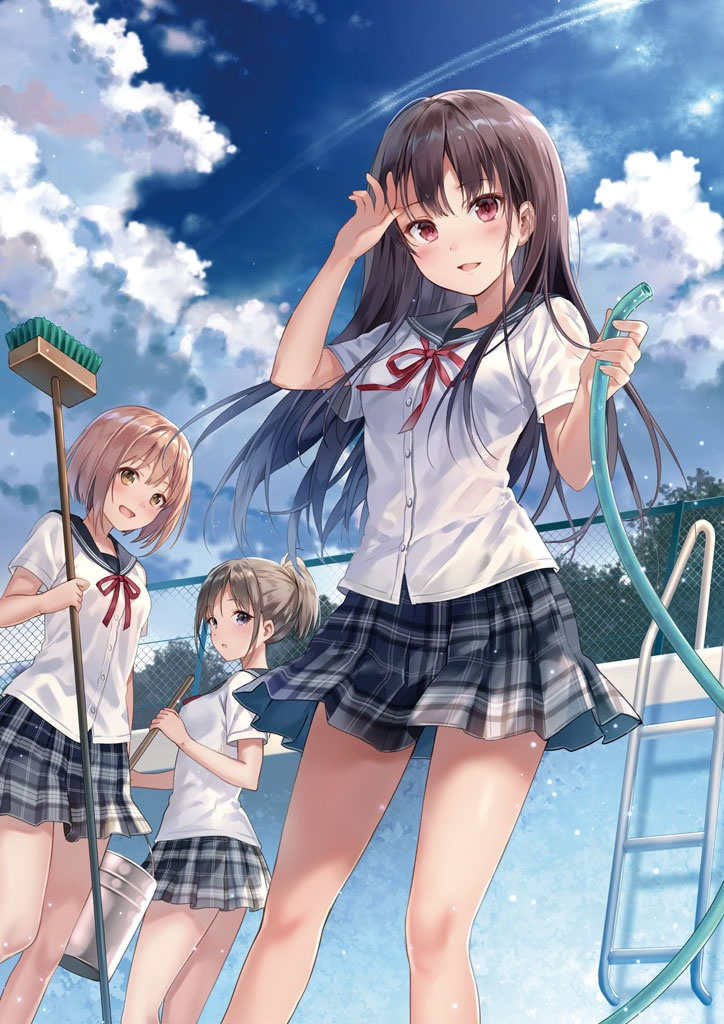纸片人正脸: (344, 82, 577, 308), (68, 405, 199, 545), (191, 556, 308, 667)
